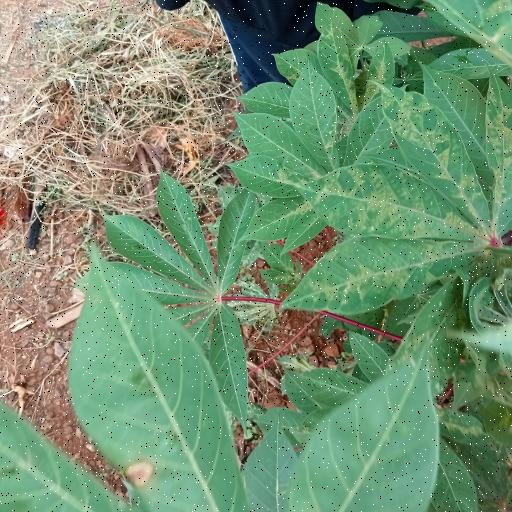Cassava_Healthy: (96, 173, 266, 416)
Corn_Brown_Spots: (306, 68, 504, 315)
